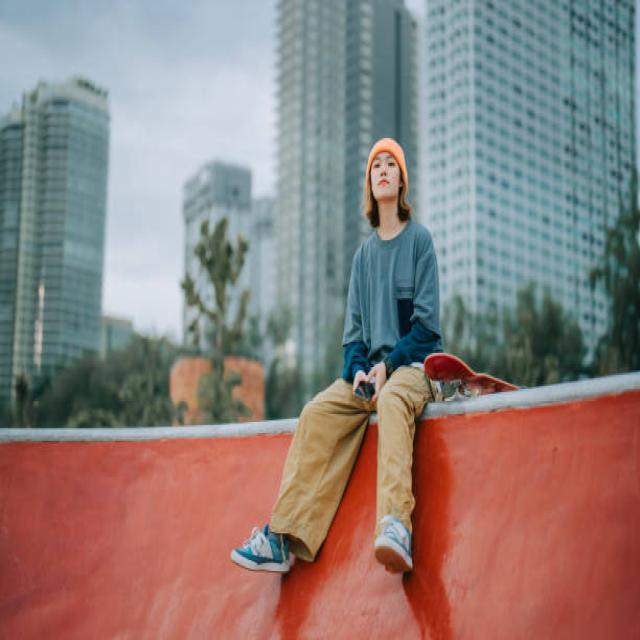Real human 2: (231, 124, 445, 588)
